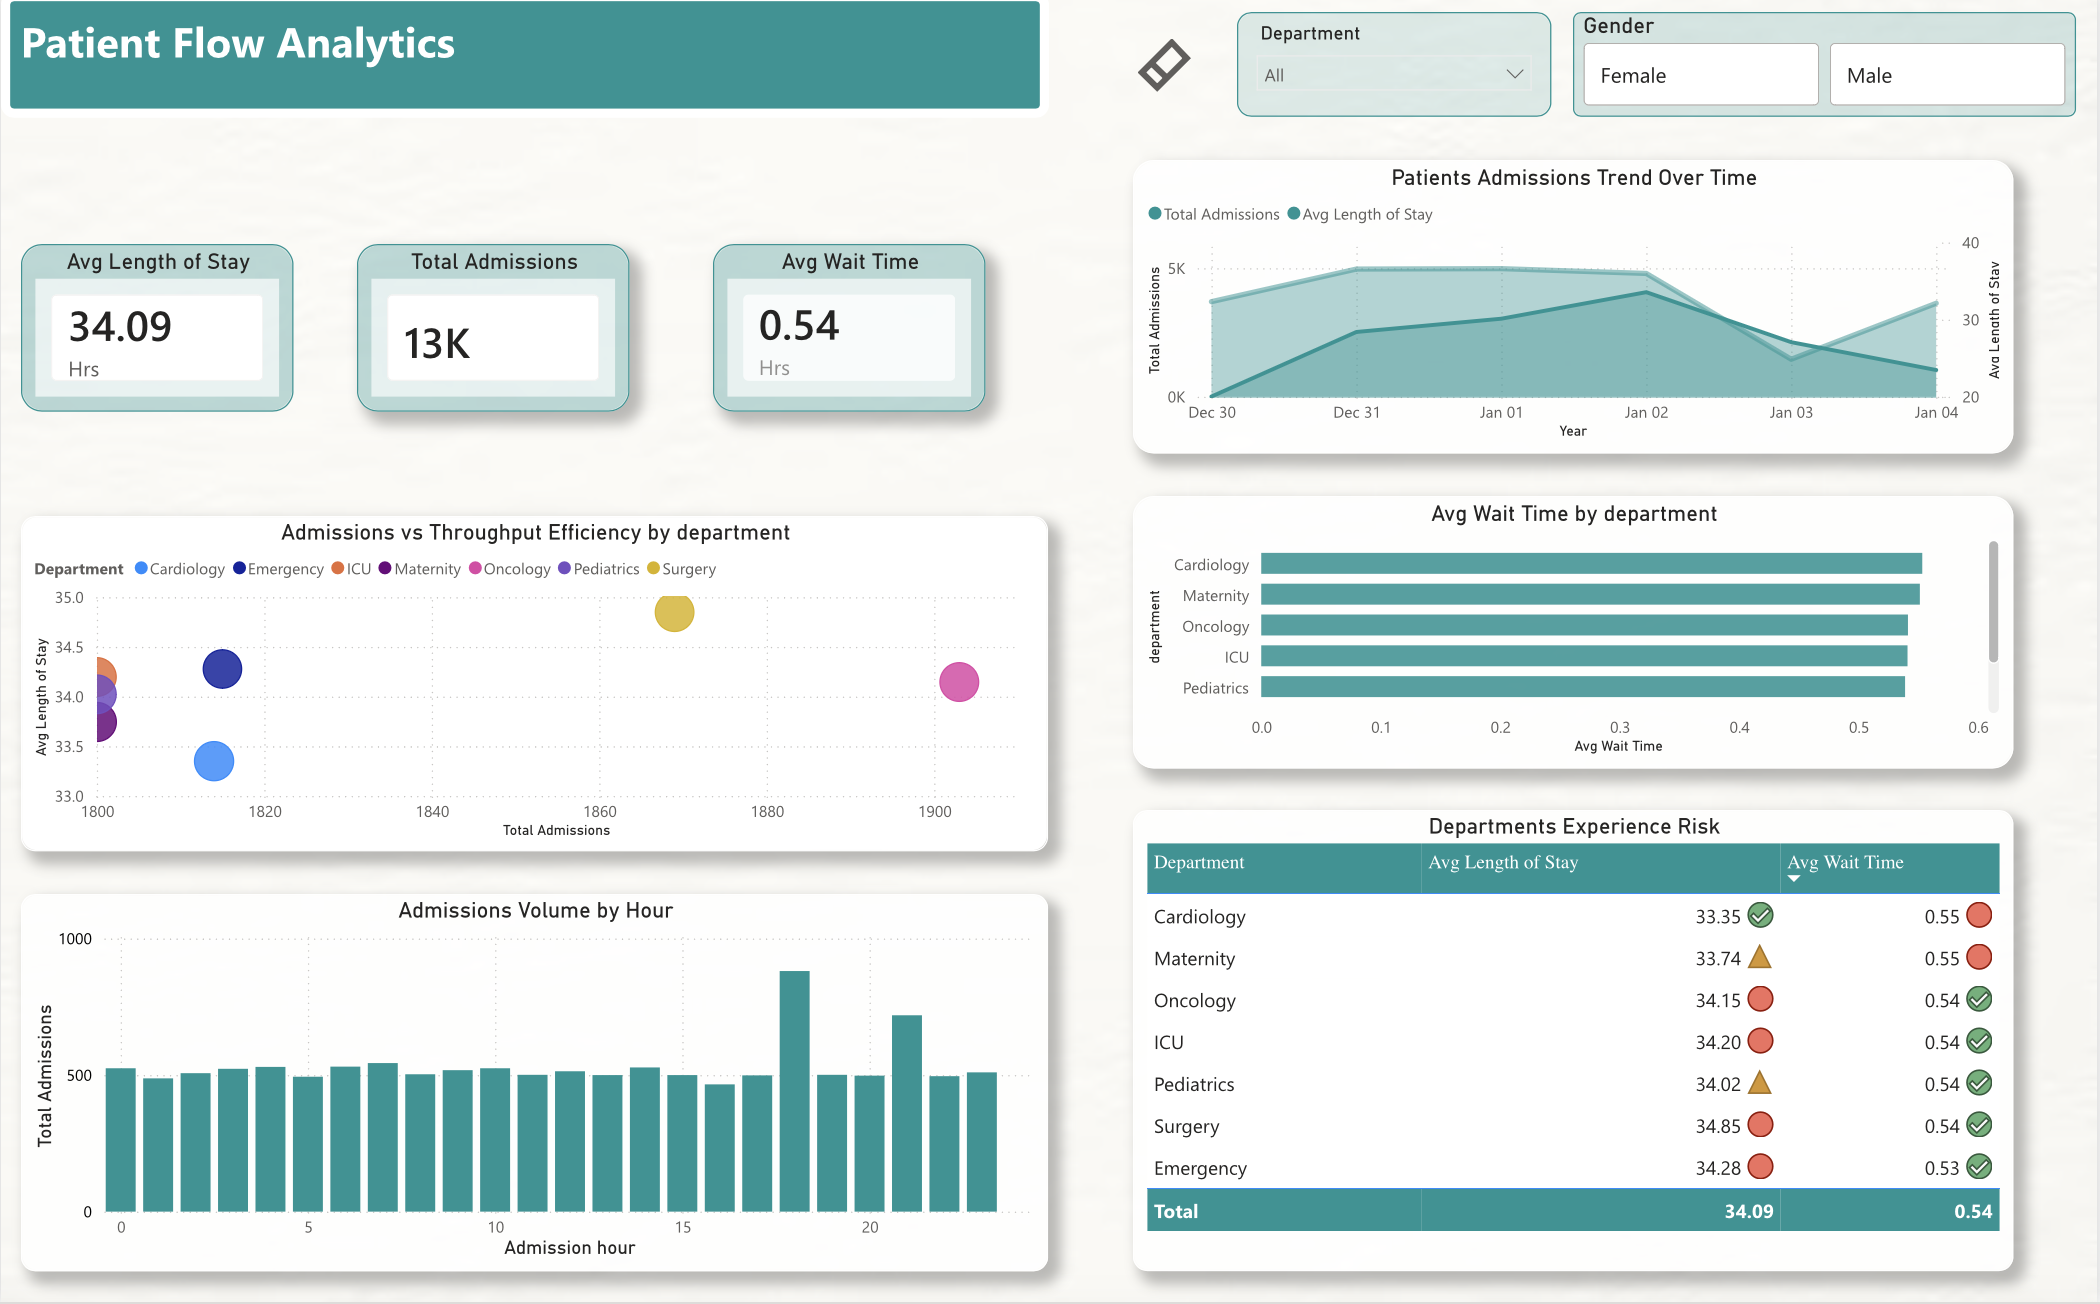

What the dashboard file says about the page in this screenshot:
{"tool":"powerbi","page":{"name":"Operational Overview","canvas":[1600,1000],"ordinal":0},"visuals":[{"type":"scatterChart","title":"Admissions vs Throughput Efficiency by department","fields":{"X":["Measure_.Total Admissions"],"Y":["Measure_.Avg Length of Stay"],"Size":["Measure_.Avg Wait Time"],"Series":["vw_dim_department.department"]},"box":[16,400,784,256],"z":0},{"type":"areaChart","title":"Patients Admissions Trend Over Time","fields":{"Category":["vw_fact_patient_event.admission_date.Variation.Date Hierarchy.Year","vw_fact_patient_event.admission_date.Variation.Date Hierarchy.Quarter","vw_fact_patient_event.admission_date.Variation.Date Hierarchy.Month","vw_fact_patient_event.admission_date.Variation.Date Hierarchy.Day"],"Y":["Measure_.Total Admissions"],"Y2":["Measure_.Avg Length of Stay"]},"box":[864,128,672,224],"z":1000},{"type":"columnChart","title":" Admissions Volume by Hour ","fields":{"Category":["vw_fact_patient_event.Admission hour"],"Y":["Measure_.Total Admissions"]},"box":[16,688,784,288],"z":2000},{"type":"cardVisual","title":"Total Admissions","fields":{"Data":["Measure_.Total Admissions"]},"box":[272,192,208,128],"z":3000},{"type":"cardVisual","title":"Avg Length of Stay","fields":{"Data":["Measure_.Avg Length of Stay"]},"box":[16,192,208,128],"z":4000},{"type":"cardVisual","title":"Avg Wait Time","fields":{"Data":["Measure_.Avg Wait Time"]},"box":[544,192,208,128],"z":5000},{"type":"clusteredBarChart","fields":{"Category":["vw_dim_department.department"],"Y":["Measure_.Avg Wait Time"]},"box":[864,384,672,208],"z":6000},{"type":"tableEx","title":"Departments Experience Risk","fields":{"Values":["vw_dim_department.department","Measure_.Avg Length of Stay","Measure_.Avg Wait Time"]},"box":[864,624,672,352],"z":7000},{"type":"slicer","fields":{"Values":["vw_dim_department.department"]},"box":[944,16,240,80],"z":8000},{"type":"advancedSlicerVisual","fields":{"Values":["vw_dim_patient_current.gender"]},"box":[1200,16,384,80],"z":9000},{"type":"textbox","box":[0,0,800,96],"z":10000},{"type":"actionButton","box":[864,32,64,48],"z":11000}]}

Visuals, with their boxes in screenshot pixels (x1, y1, x2, y2), scaled from the page's 1600x1000 canvas onto the 2100x1304 screenshot:
"Admissions vs Throughput Efficiency by department" scatterChart: (21, 522, 1050, 855)
"Patients Admissions Trend Over Time" areaChart: (1134, 167, 2016, 459)
" Admissions Volume by Hour " columnChart: (21, 897, 1050, 1273)
"Total Admissions" cardVisual: (357, 250, 630, 417)
"Avg Length of Stay" cardVisual: (21, 250, 294, 417)
"Avg Wait Time" cardVisual: (714, 250, 987, 417)
clusteredBarChart - vw_dim_department.department x Measure_.Avg Wait Time: (1134, 501, 2016, 772)
"Departments Experience Risk" tableEx: (1134, 814, 2016, 1273)
slicer - vw_dim_department.department: (1239, 21, 1554, 125)
advancedSlicerVisual - vw_dim_patient_current.gender: (1575, 21, 2079, 125)
textbox: (0, 0, 1050, 125)
actionButton: (1134, 42, 1218, 104)
